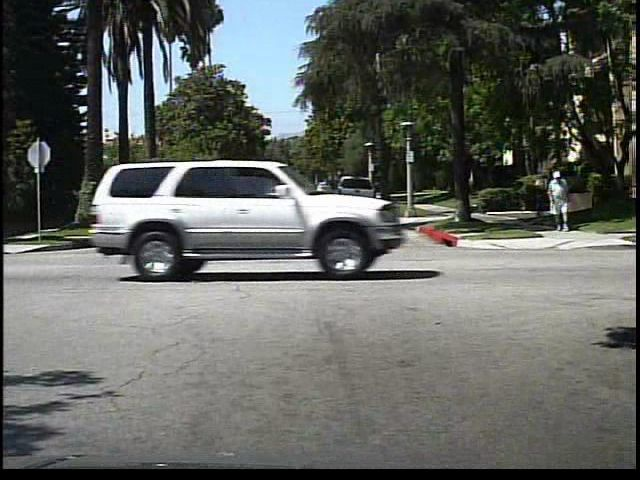person: (543, 168, 573, 234)
